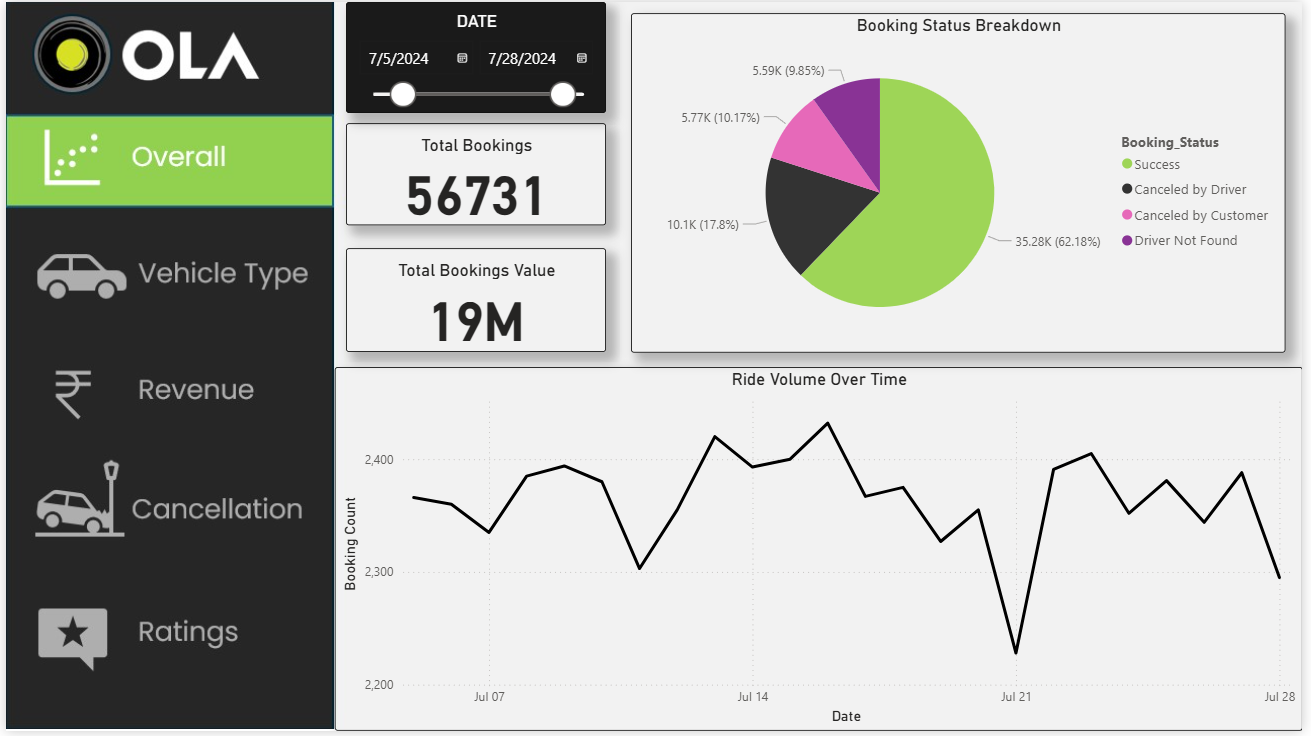

Layout of this report page (visuals, bound fields, positions):
{"tool":"powerbi","page":{"name":"Overall","canvas":[1280,720],"ordinal":0},"visuals":[{"type":"actionButton","box":[0,221.4,324.8,91.7],"z":0},{"type":"actionButton","box":[0,336.4,324.8,91.7],"z":1000},{"type":"actionButton","box":[0,451.3,324.8,91.7],"z":2000},{"type":"actionButton","box":[0,578.9,324.8,91.7],"z":3000},{"type":"actionButton","box":[0,109.7,324.8,91.7],"z":4000},{"type":"lineChart","title":"Ride Volume Over Time","fields":{"Y":["CountNonNull(July.Booking_ID)"],"Category":["July.Date"]},"box":[324.4,360.5,955.8,359.3],"z":5000},{"type":"pieChart","title":"Booking Status Breakdown","fields":{"Category":["July.Booking_Status"],"Y":["CountNonNull(July.Booking_ID)"]},"box":[617.5,11,646.3,334.8],"z":6000},{"type":"slicer","title":"DATE","fields":{"Values":["July.Date"]},"box":[336,0,257,109.3],"z":7000},{"type":"card","title":"Total Bookings","fields":{"Values":["Count(July.Booking_ID)"]},"box":[336,119.8,257,101.2],"z":8000},{"type":"card","title":"Total Bookings Value","fields":{"Values":["Sum(July.Booking_Value)"]},"box":[336,243,257,102.3],"z":9000}]}

Visuals, with their boxes in screenshot pixels (x1, y1, x2, y2), scaled from the page's 1280x720 canvas onto the 1311x736 screenshot:
actionButton: crop(0, 226, 333, 320)
actionButton: crop(0, 344, 333, 438)
actionButton: crop(0, 461, 333, 555)
actionButton: crop(0, 592, 333, 686)
actionButton: crop(0, 112, 333, 206)
"Ride Volume Over Time" lineChart: crop(332, 369, 1310, 735)
"Booking Status Breakdown" pieChart: crop(632, 11, 1294, 353)
"DATE" slicer: crop(344, 0, 607, 112)
"Total Bookings" card: crop(344, 122, 607, 226)
"Total Bookings Value" card: crop(344, 248, 607, 353)
